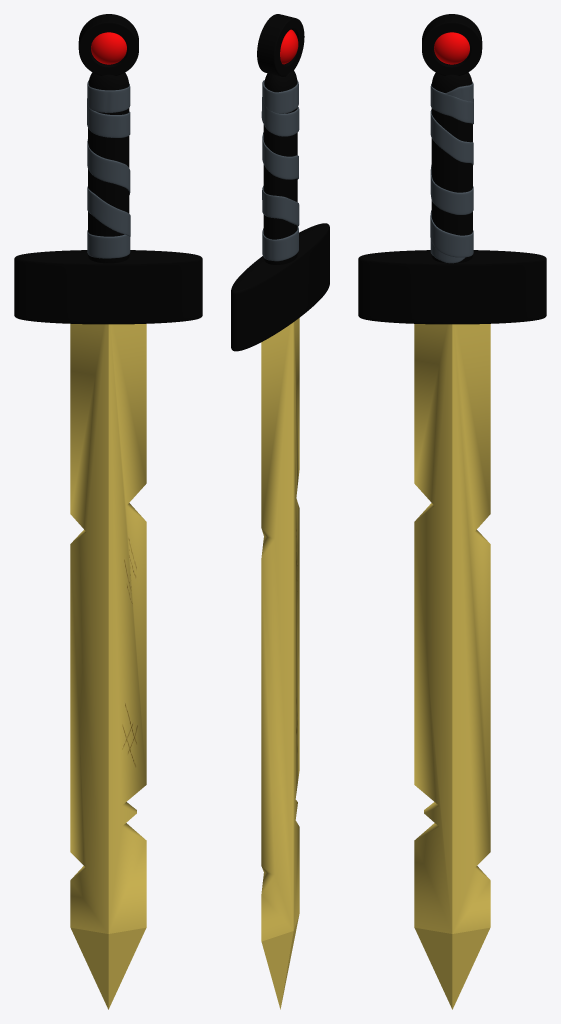
Rendered from ScarletCore.fbx.
The picture shows the model from 3 angles, left to right: view 1: azimuth 90°, elevation 25°; view 2: azimuth 150°, elevation 25°; view 3: azimuth 270°, elevation 25°; orthographic projection.
Parts seen in each view (by area): view 1: Guardia.002, Guardia.003, Guardia, Guardia.001; view 2: Guardia.002, Guardia.003, Guardia, Guardia.001; view 3: Guardia.002, Guardia.003, Guardia, Guardia.001.
Boxes of the visible parts, box(x1,y1,x2,y2) form: Guardia.002: box(70, 324, 146, 1009); Guardia.003: box(14, 250, 202, 324); Guardia: box(87, 72, 130, 263); Guardia.001: box(78, 14, 138, 75); Guardia.002: box(261, 318, 299, 1009); Guardia.003: box(231, 223, 329, 351); Guardia: box(261, 70, 299, 264); Guardia.001: box(257, 14, 304, 76); Guardia.002: box(414, 324, 490, 1009); Guardia.003: box(358, 250, 546, 324); Guardia: box(430, 72, 473, 263); Guardia.001: box(422, 14, 482, 75).
Size of the model in its own units: 0.2834 by 8.96 by 1.54.
